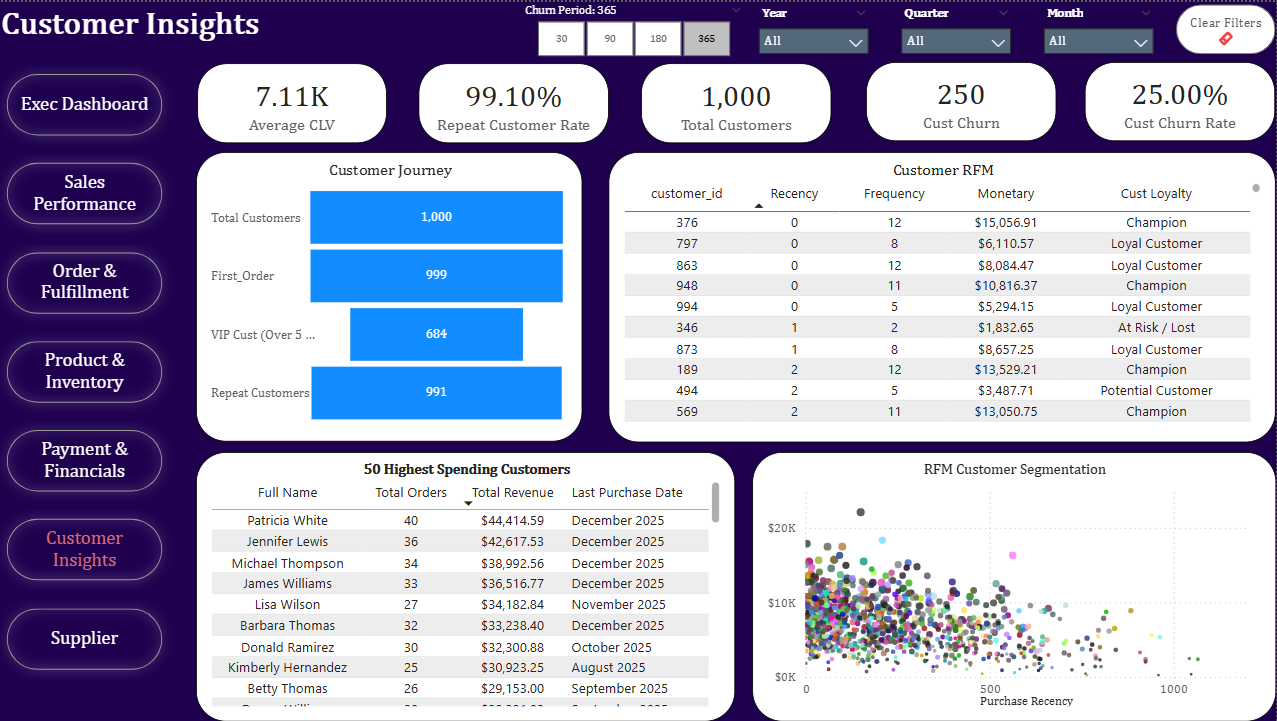

This screenshot's page, from the dashboard's own definition file:
{"tool":"powerbi","page":{"name":"Customer Insights","canvas":[1280,720],"ordinal":5},"visuals":[{"type":"funnel","title":"Customer Journey","fields":{"Y":["Customer Insights Measures.Total Customers","Customer Insights Measures.First_Order","Customer Insights Measures.VIP Customers","Customer Insights Measures.Repeat Customers"]},"box":[200.5,150,386.7,290],"z":0},{"type":"tableEx","title":"50 Highest Spending Customers","fields":{"Values":["customers.Full Name","Order & Fulfillment Measure.Total Orders","Exec Measures.Total Revenue","Product & Inventory Measure.Last Sale Date"]},"box":[200.5,450.1,539.6,269.8],"z":1000},{"type":"tableEx","title":"Customer RFM","fields":{"Values":["customers.customer_id","Customer Insights Measures.Purchase Recency","Order & Fulfillment Measure.Total Orders","Exec Measures.Total Revenue","Customer Insights Measures.Customer Loyalty"]},"box":[612.2,149.5,667.4,290.1],"z":2000},{"type":"scatterChart","title":"RFM Customer Segmentation","fields":{"Size":["Order & Fulfillment Measure.Total Orders"],"X":["Customer Insights Measures.Purchase Recency"],"Category":["customers.customer_id"],"Y":["Exec Measures.Total Revenue"]},"box":[756,450.1,523.7,269.8],"z":3000},{"type":"slicer","title":"Year","fields":{"Values":["Calendar.Year"]},"box":[752,0,130,55],"z":4000},{"type":"slicer","title":"Quarter","fields":{"Values":["Calendar.Quarter1"]},"box":[894.6,0,130,55],"z":5000},{"type":"slicer","title":"Month Slicer","fields":{"Values":["Calendar.Month Name"]},"box":[1037.2,0,130,55],"z":6000},{"type":"textbox","title":"Header Text Box","box":[0,0,527.4,51],"z":7000},{"type":"actionButton","box":[1180.5,2.5,99.5,49.8],"z":8000},{"type":"slicer","fields":{"Values":["Churn Period.Churn Period"]},"box":[521.2,1.2,231.4,54.7],"z":9000},{"type":"pageNavigator","box":[0,61,177.9,620],"z":10000},{"type":"card","title":"Return Rate","fields":{"Values":["Customer Insights Measures.Total Customers"]},"box":[644.5,60.9,190.5,80],"z":11000},{"type":"card","title":"Completion Rate","fields":{"Values":["Customer Insights Measures.Repeat Customer Rate"]},"box":[422,60.9,190.5,80],"z":12000},{"type":"card","title":"Total Orders","fields":{"Values":["Customer Insights Measures.Average CLV"]},"box":[200.6,60.9,189.4,80],"z":13000},{"type":"card","fields":{"Values":["Customer Insights Measures.Customer Churn"]},"box":[870,60.6,190.4,79.4],"z":14000},{"type":"card","fields":{"Values":["Customer Insights Measures.Cust Churn Rate"]},"box":[1089.3,60.6,190.4,79.4],"z":15000},{"type":"bookmarkNavigator","box":[0,0,295.2,49.6],"z":16000}]}

Visuals, with their boxes in screenshot pixels (x1, y1, x2, y2), scaled from the page's 1280x720 canvas onto the 1277x721 screenshot:
"Customer Journey" funnel: Rect(200, 150, 586, 441)
"50 Highest Spending Customers" tableEx: Rect(200, 451, 738, 720)
"Customer RFM" tableEx: Rect(611, 150, 1276, 440)
"RFM Customer Segmentation" scatterChart: Rect(754, 451, 1276, 720)
"Year" slicer: Rect(750, 0, 880, 55)
"Quarter" slicer: Rect(893, 0, 1022, 55)
"Month Slicer" slicer: Rect(1035, 0, 1164, 55)
"Header Text Box" textbox: Rect(0, 0, 526, 51)
actionButton: Rect(1178, 3, 1276, 52)
slicer - Churn Period.Churn Period: Rect(520, 1, 751, 56)
pageNavigator: Rect(0, 61, 177, 682)
"Return Rate" card: Rect(643, 61, 833, 141)
"Completion Rate" card: Rect(421, 61, 611, 141)
"Total Orders" card: Rect(200, 61, 389, 141)
card - Customer Insights Measures.Customer Churn: Rect(868, 61, 1058, 140)
card - Customer Insights Measures.Cust Churn Rate: Rect(1087, 61, 1276, 140)
bookmarkNavigator: Rect(0, 0, 295, 50)
